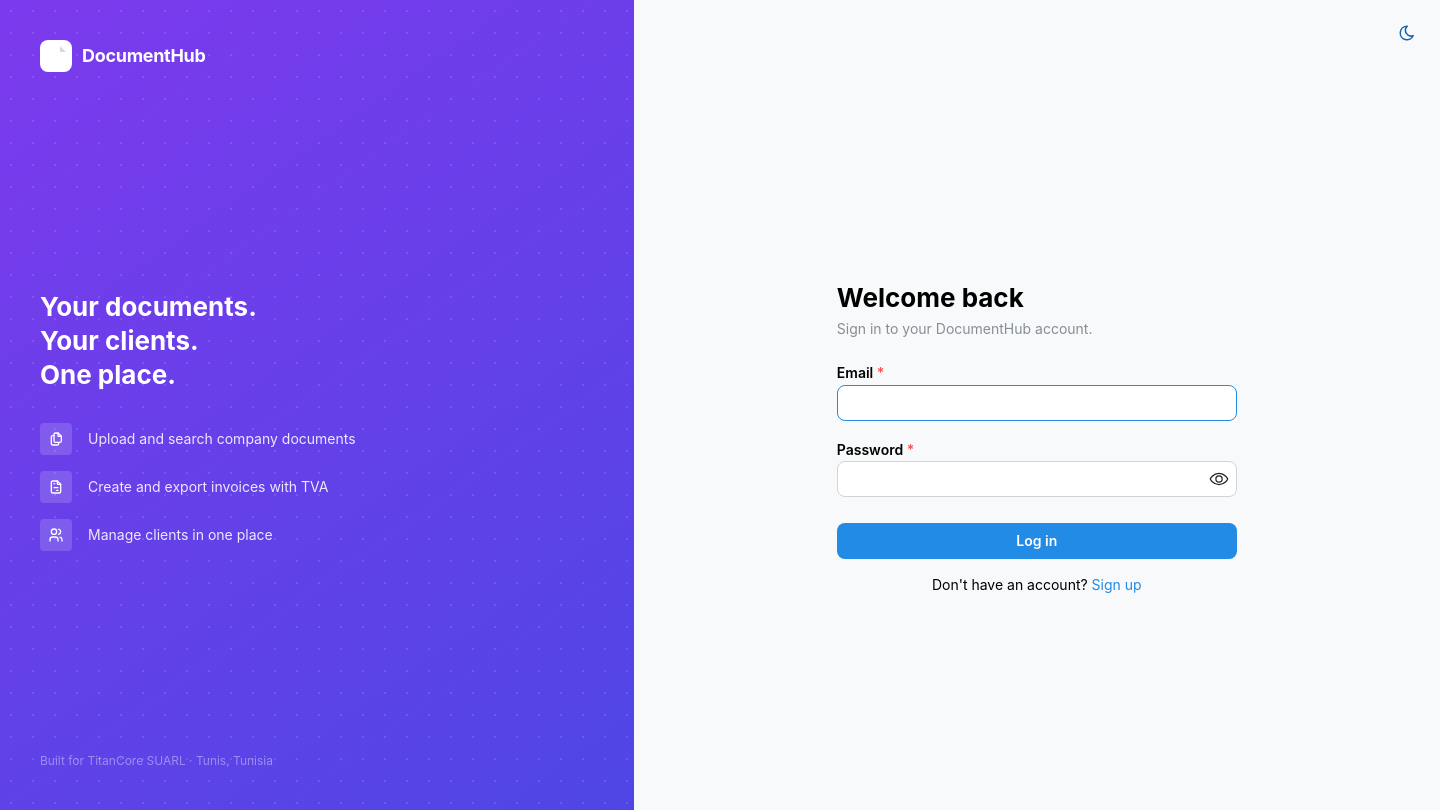
Test case: LoginForm › shows error message on invalid credentials (401)
The image size is (1440, 810).
Step 1. Type "admin@titancore.tn" into the field labelled "Email *" → (1037, 402), box [837,384,1237,420]
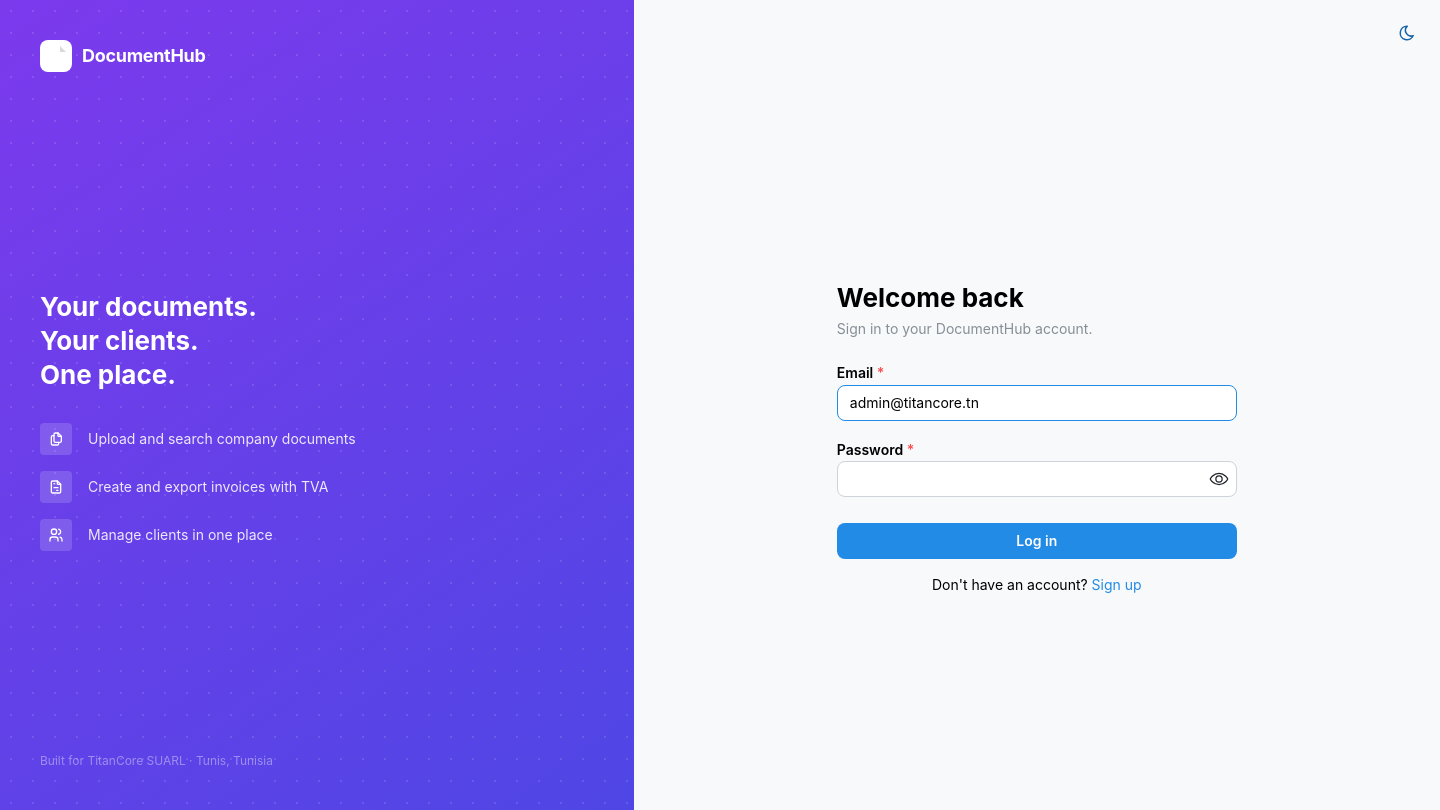
Step 2. Type "wrong" into the password field labelled "Password *" → (1037, 479), box [838,462,1236,496]
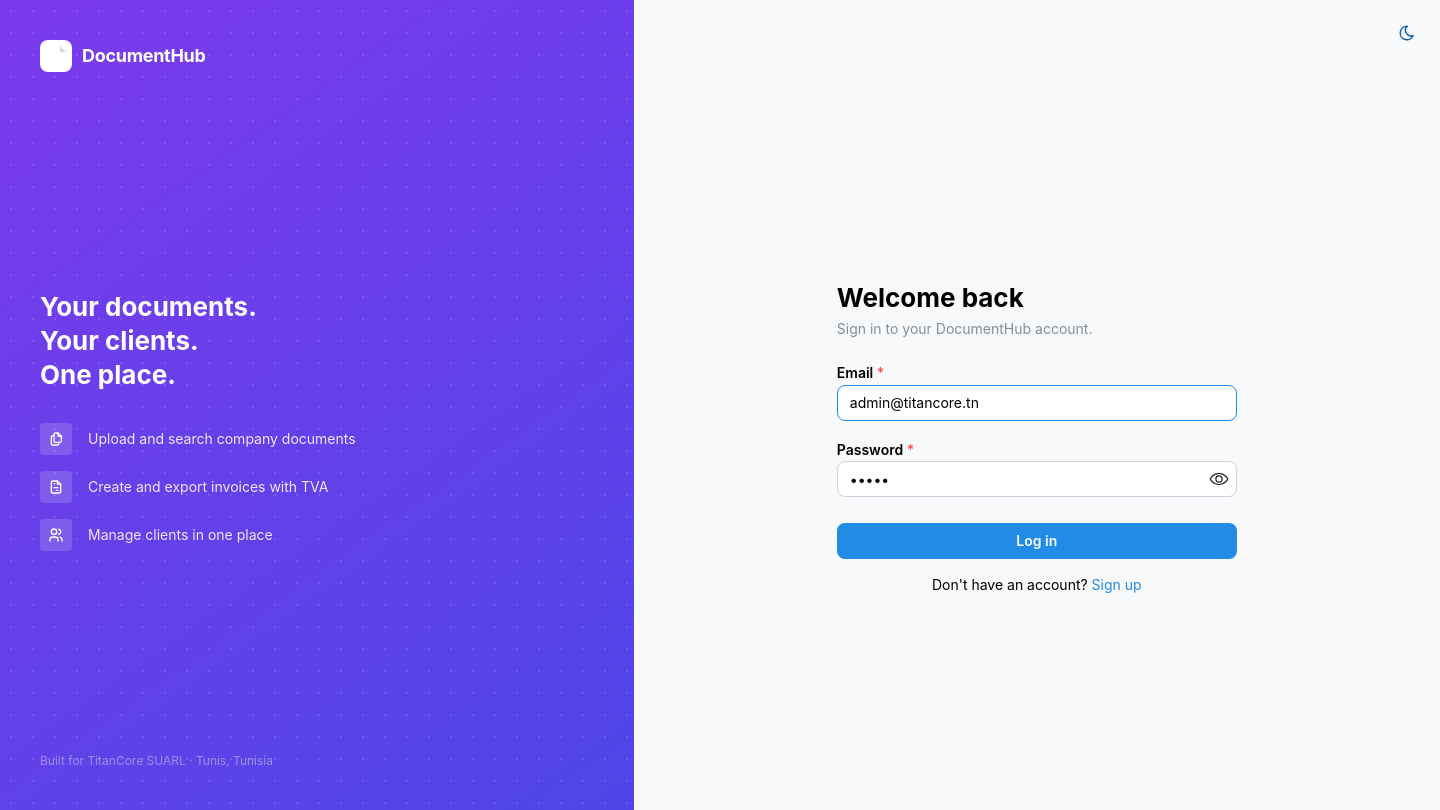
Step 3. Click the button "Log in" → (1037, 541), box [837,523,1237,559]
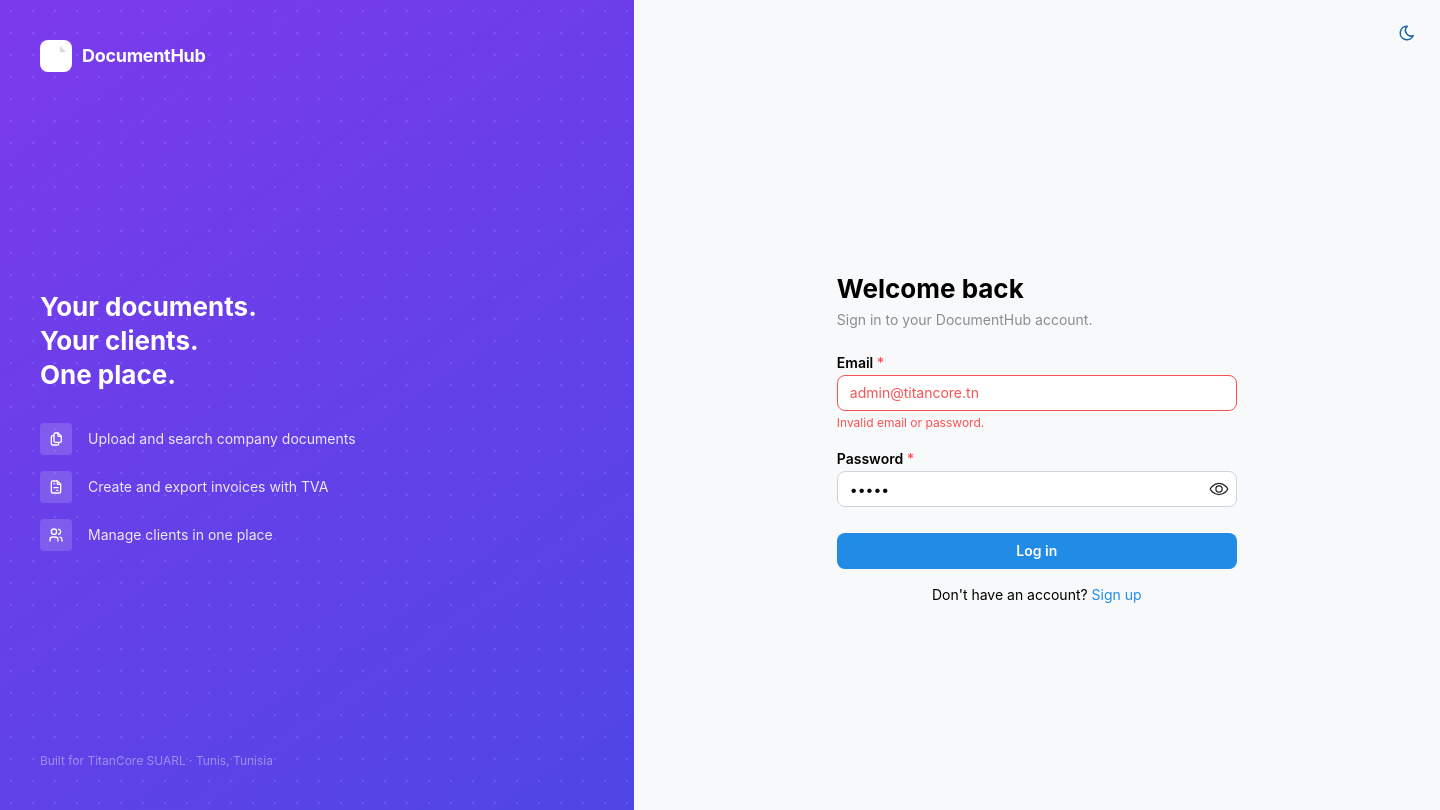
Expected: the text "Invalid email or password." is shown, [837,415,984,430]
